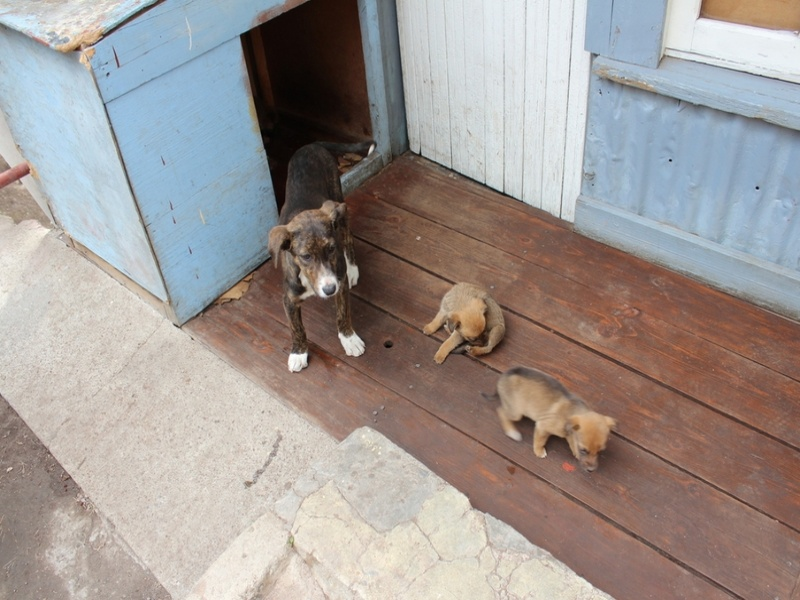dog: (264, 139, 377, 380), (494, 368, 614, 476), (419, 277, 511, 367)
